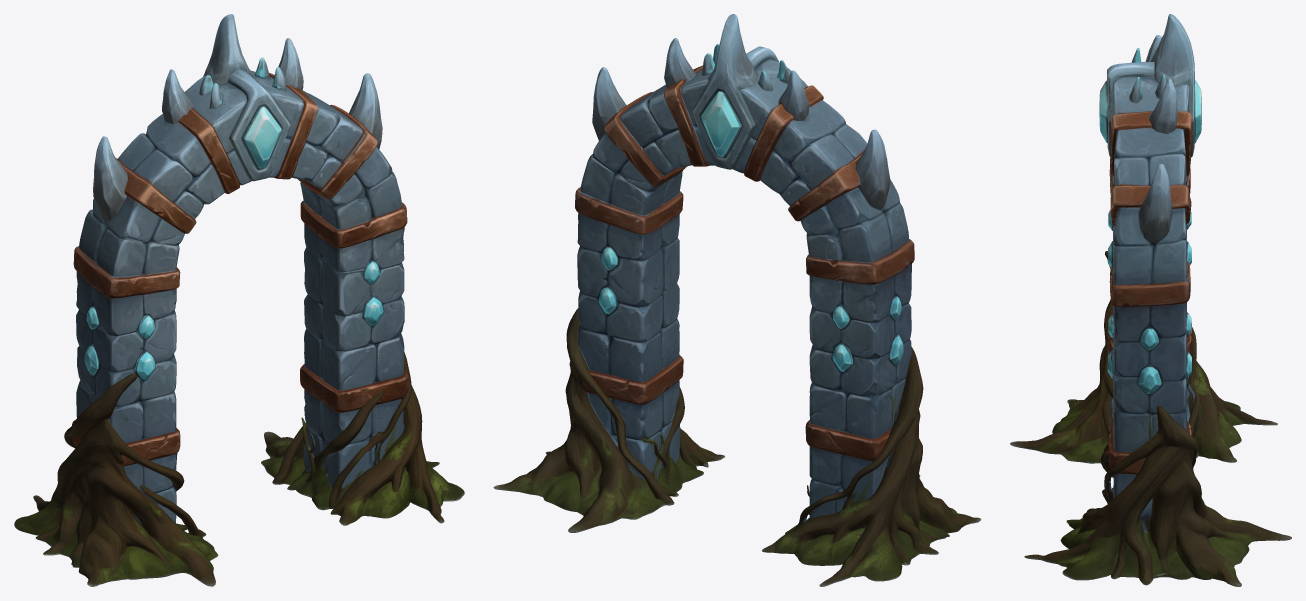
File: crown_arch.glb
3 renders of one model, left to right at view 1: azimuth 30°, elevation 25°; view 2: azimuth 150°, elevation 25°; view 3: azimuth 270°, elevation 25°, orthographic. The views are drawn at different scales.
Visible parts, largest first — view 1: Mesh_0; view 2: Mesh_0; view 3: Mesh_0.
Boxes of the visible parts, x1,y1,x2,y2 form: Mesh_0: (14, 14, 464, 586); Mesh_0: (493, 14, 981, 586); Mesh_0: (1010, 14, 1291, 586).
Bounding box in the file's own units: 1.61 × 1.9 × 1.02.
1 material, 1 textured.
